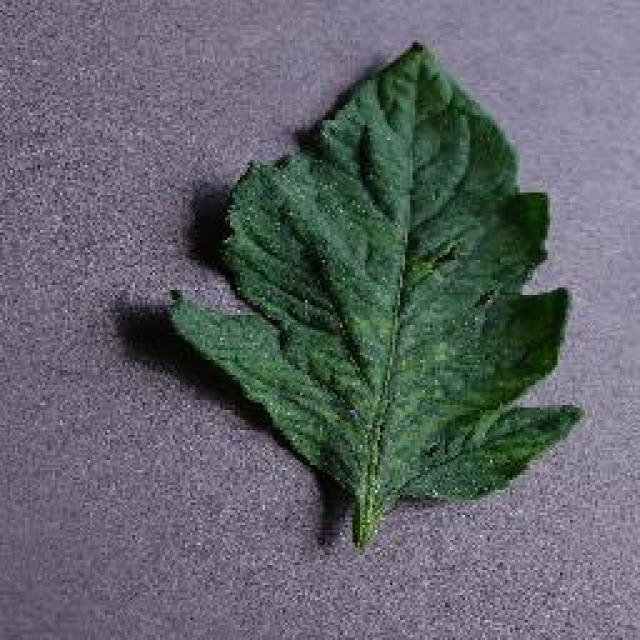Tomato mosaic virus leaf: (156, 34, 588, 508)
